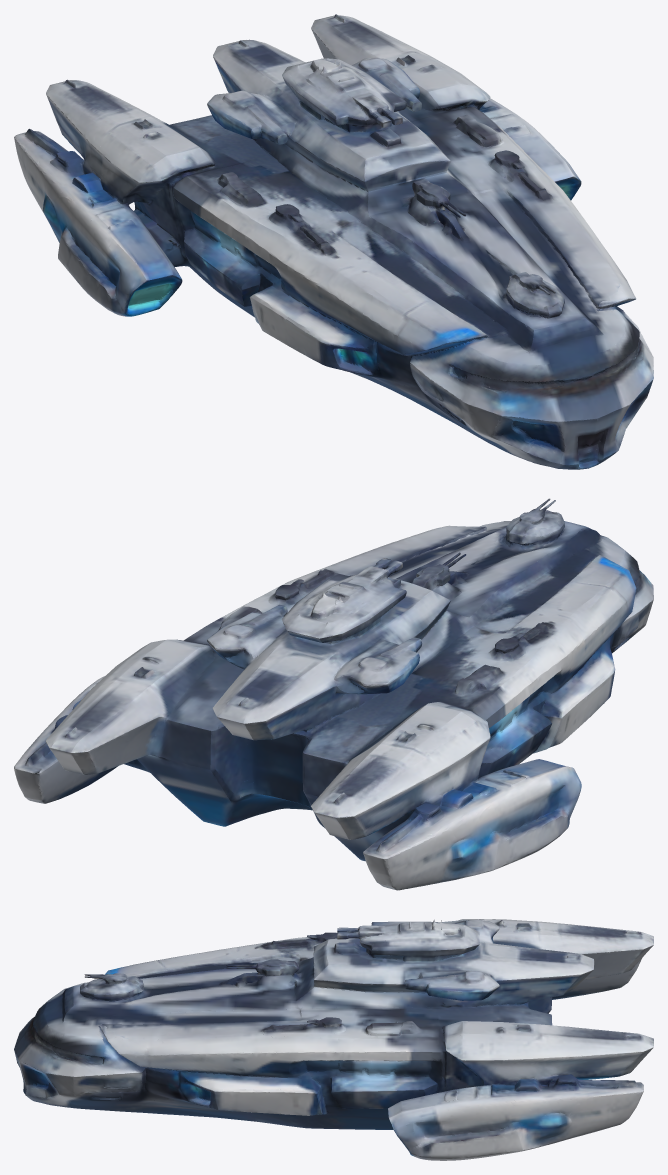
File: alliance_battleship.glb
The picture shows the model from 3 angles, top to bottom: view 1: azimuth 30°, elevation 25°; view 2: azimuth 150°, elevation 25°; view 3: azimuth 270°, elevation 25°; orthographic projection. The views are drawn at different scales.
Parts seen in each view (by area): view 1: model; view 2: model; view 3: model.
Boxes of the visible parts, bbox=[...] form: model: bbox=[14, 14, 653, 469]; model: bbox=[14, 498, 653, 890]; model: bbox=[14, 919, 653, 1160].
Bounding box in the file's own units: 1.24 × 0.6013 × 1.9.
Materials: 1 (1 with a texture image).
